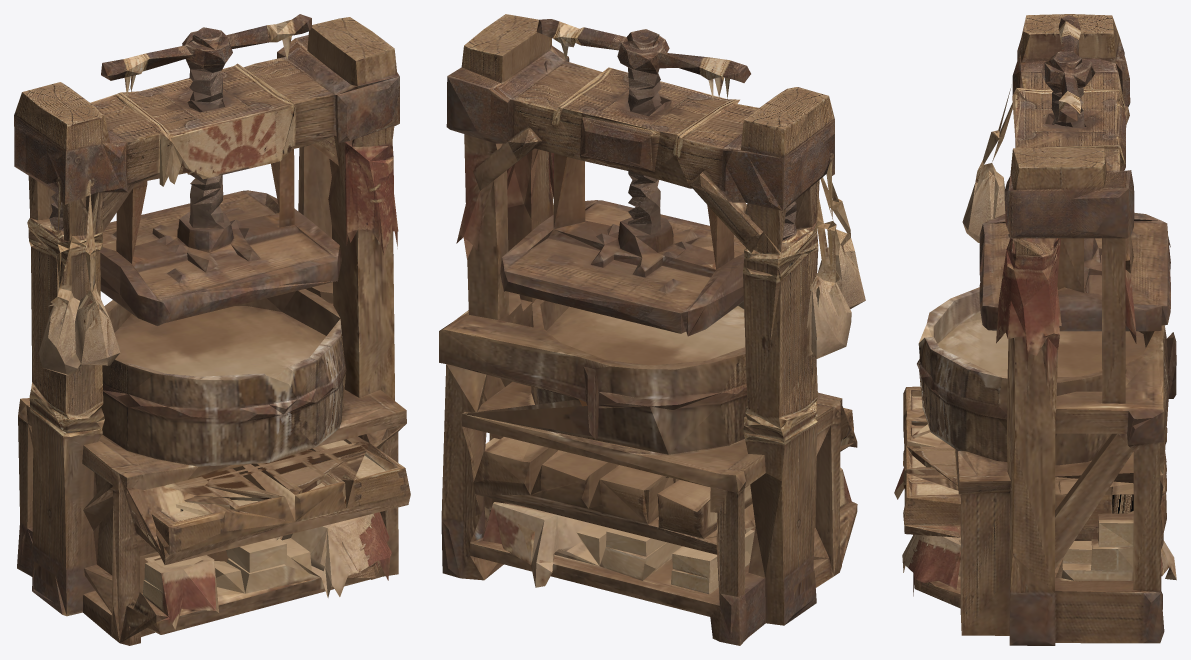
File: soap-press.glb
3 renders of one model, left to right at view 1: azimuth 30°, elevation 25°; view 2: azimuth 150°, elevation 25°; view 3: azimuth 270°, elevation 25°, orthographic. The views are drawn at different scales.
Parts seen in each view (by area): view 1: output_unwrapped; view 2: output_unwrapped; view 3: output_unwrapped.
Part boxes in pixels (bbox=[...]): output_unwrapped: bbox=[14, 14, 410, 645]; output_unwrapped: bbox=[439, 14, 865, 645]; output_unwrapped: bbox=[894, 14, 1176, 645].
Bounding box in the file's own units: 1.24 × 1.8 × 0.8909.
Materials: 1 (1 with a texture image).
